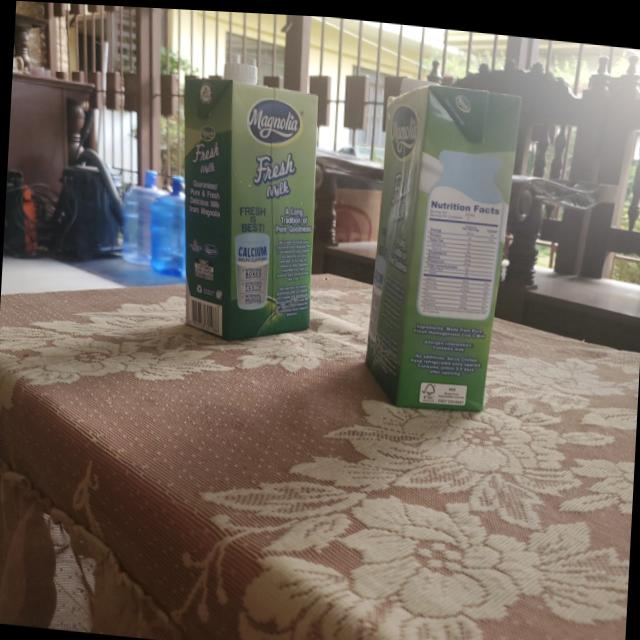milk: (360, 73, 524, 413), (178, 55, 328, 343)
